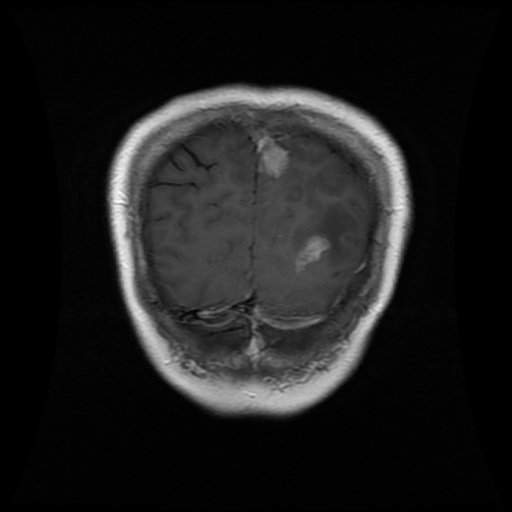glioma: (289, 166, 362, 271)
